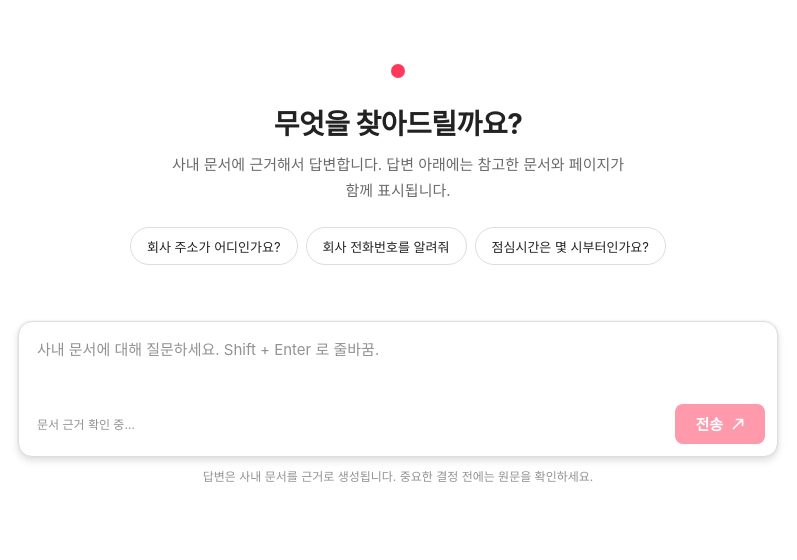
Test: ChatPanel › keeps sources already received before a mid-stream throw, instead of discarding them to the clause ③ failure screen
The width and height of the screenshot is (797, 560).
In the text box: coordinates (398, 359) left=19, top=322, right=777, bottom=396, type "hi"
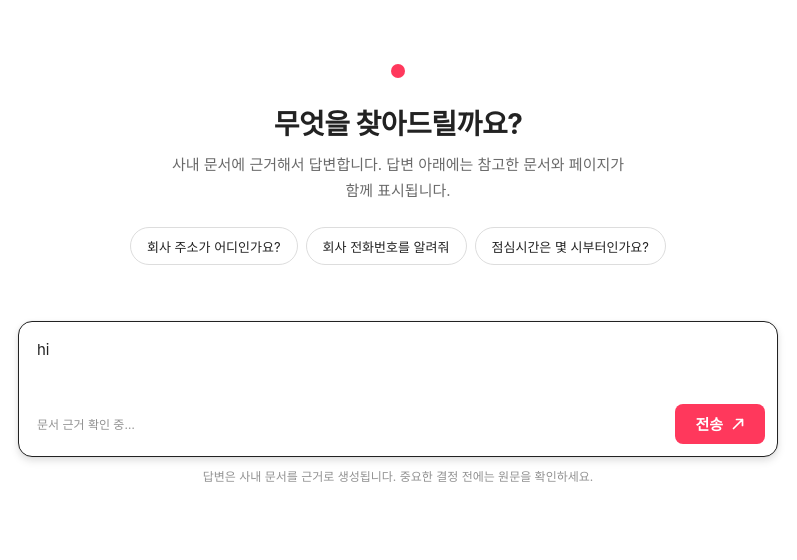
Click the button "전송": coordinates (720, 424) left=675, top=404, right=765, bottom=444
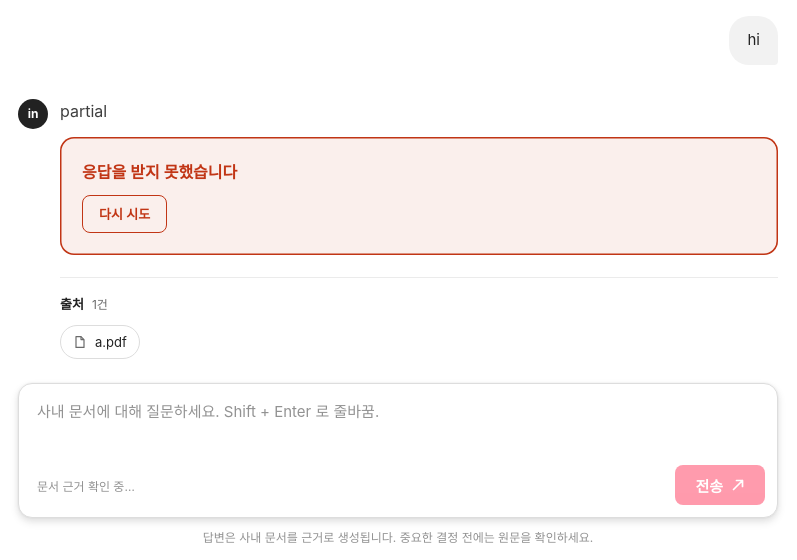
Check: the message "partial" is shown, box left=60, top=101, right=107, bottom=121
Check: the text "1건" is shown, box left=92, top=295, right=108, bottom=312
